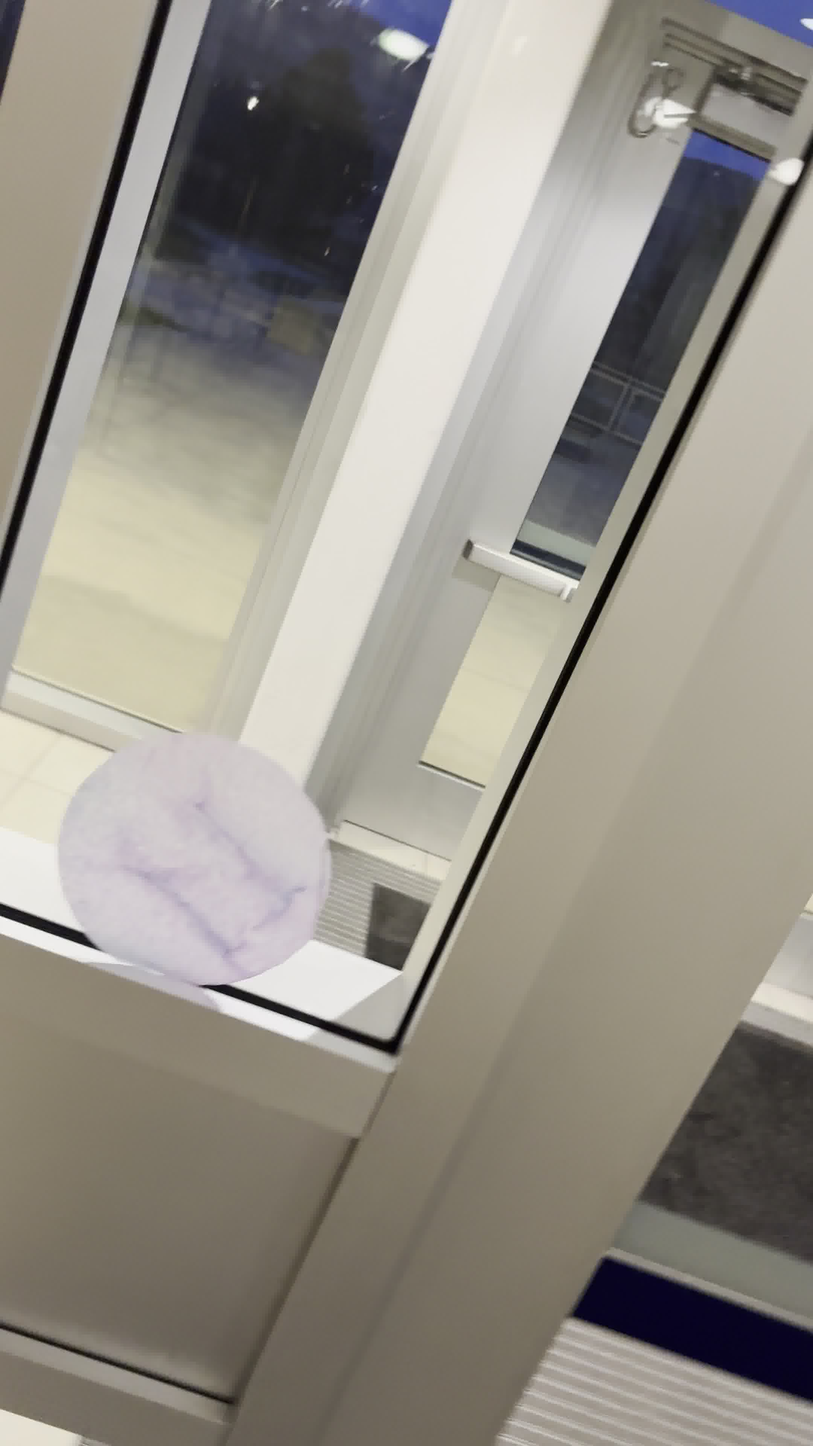Target: (56, 730, 336, 990)
